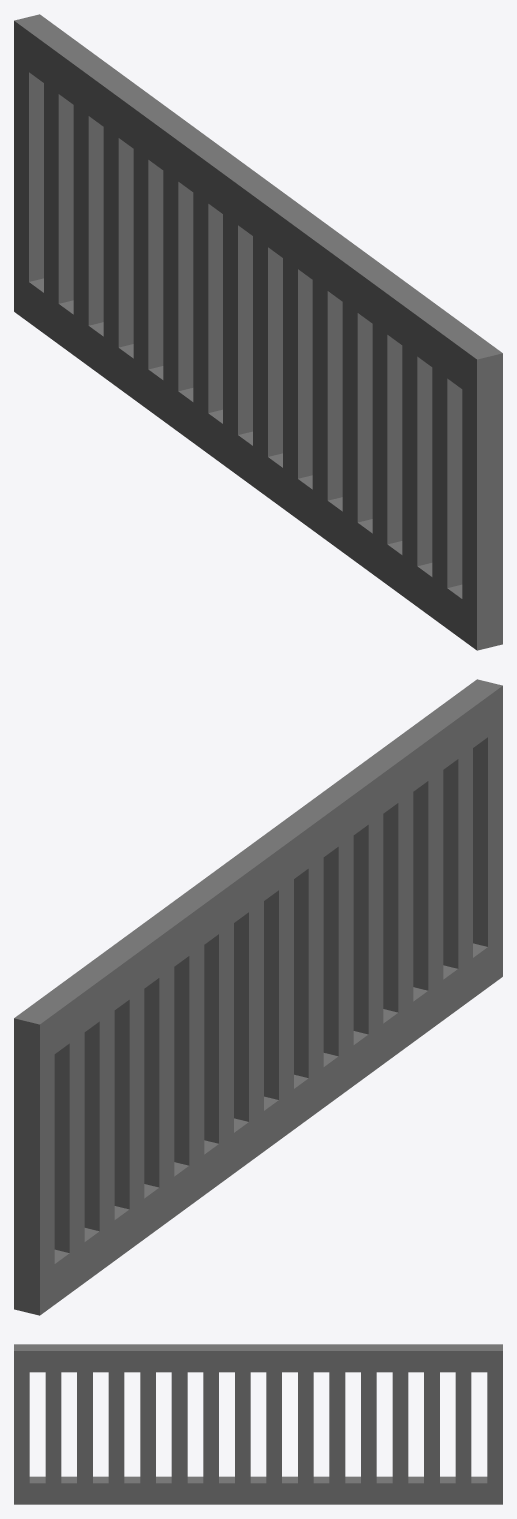
File: Barandilla.obj
The picture shows the model from 3 angles, top to bottom: view 1: azimuth 30°, elevation 25°; view 2: azimuth 150°, elevation 25°; view 3: azimuth 270°, elevation 25°; orthographic projection. The views are drawn at different scales.
Size of the model in its own units: 0.4 by 4.3 by 12.4.
Materials: 1 (1 with a texture image).
